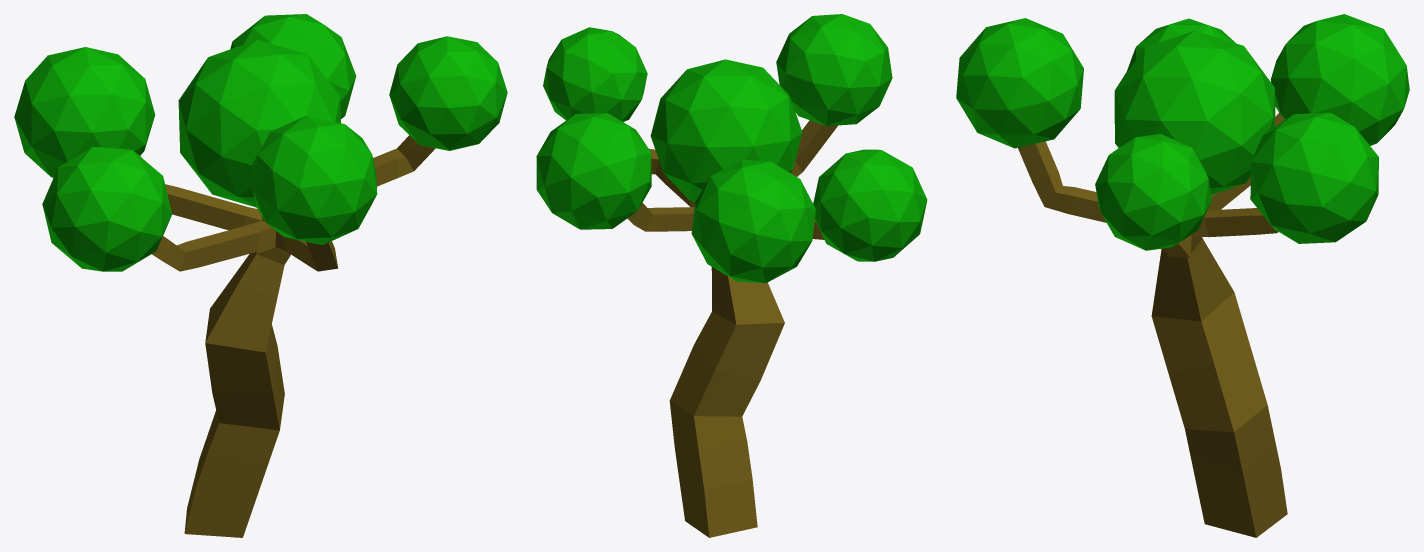
The model's file is Tree_two_the_sequal.fbx.
3 renders of one model, left to right at view 1: azimuth 30°, elevation 25°; view 2: azimuth 150°, elevation 25°; view 3: azimuth 270°, elevation 25°, orthographic. The views are drawn at different scales.
Visible parts, largest first — view 1: Cube, Icosphere.003, Icosphere, Icosphere.004, Icosphere.005, Icosphere.002, Icosphere.001; view 2: Cube, Icosphere.003, Icosphere, Icosphere.001, Icosphere.004, Icosphere.005, Icosphere.002; view 3: Cube, Icosphere.003, Icosphere.001, Icosphere.004, Icosphere, Icosphere.002, Icosphere.005.
Boxes of the visible parts, x1=… form: Cube: x1=138, y1=135, x2=435, y2=537; Icosphere.003: x1=178, y1=39, x2=340, y2=207; Icosphere: x1=14, y1=47, x2=155, y2=177; Icosphere.004: x1=251, y1=115, x2=377, y2=245; Icosphere.005: x1=42, y1=147, x2=172, y2=271; Icosphere.002: x1=389, y1=36, x2=507, y2=150; Icosphere.001: x1=230, y1=14, x2=356, y2=118; Cube: x1=627, y1=120, x2=837, y2=537; Icosphere.003: x1=650, y1=59, x2=802, y2=201; Icosphere: x1=691, y1=159, x2=815, y2=283; Icosphere.001: x1=536, y1=113, x2=651, y2=229; Icosphere.004: x1=776, y1=14, x2=892, y2=126; Icosphere.005: x1=813, y1=149, x2=927, y2=261; Icosphere.002: x1=543, y1=27, x2=647, y2=121; Cube: x1=1018, y1=112, x2=1287, y2=537; Icosphere.003: x1=1114, y1=30, x2=1275, y2=195; Icosphere.001: x1=1250, y1=112, x2=1378, y2=243; Icosphere.004: x1=956, y1=18, x2=1083, y2=148; Icosphere: x1=1270, y1=14, x2=1409, y2=145; Icosphere.002: x1=1095, y1=134, x2=1211, y2=250; Icosphere.005: x1=1127, y1=18, x2=1235, y2=70.
Bounding box in the file's own units: 700 × 760 × 638.
